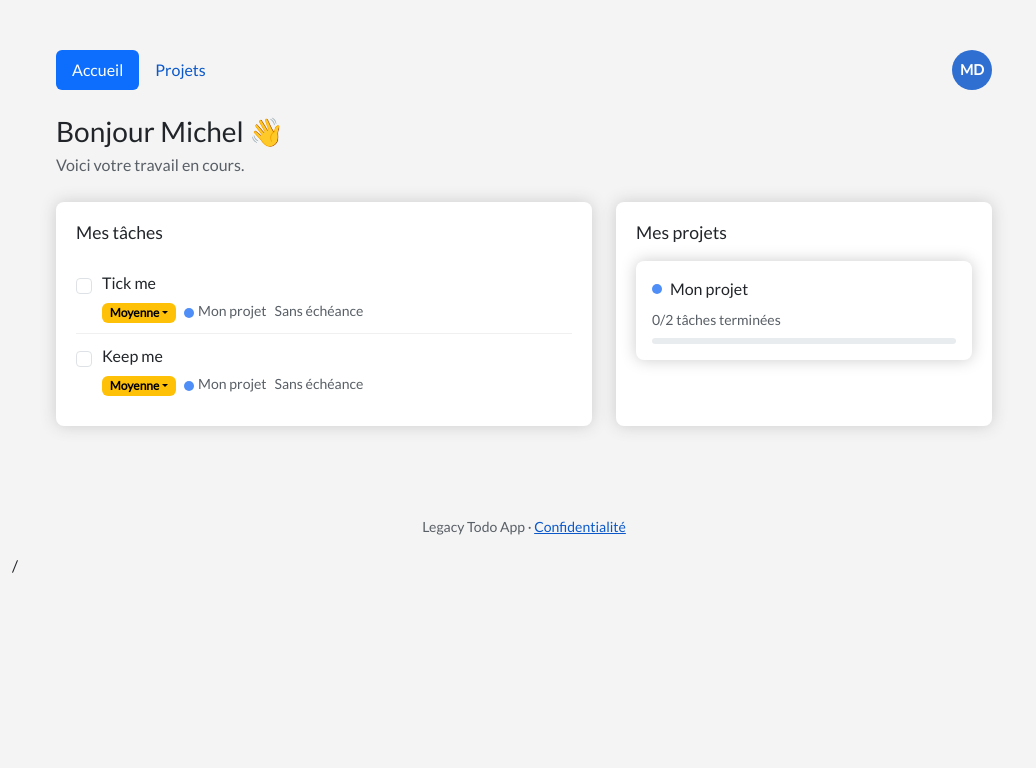
it: home page › ticking a task on the home page completes it and drops it from the list
Click the checkbox named "Marquer comme terminée" at (84, 286), box x1=76 y1=278 x2=92 y2=294
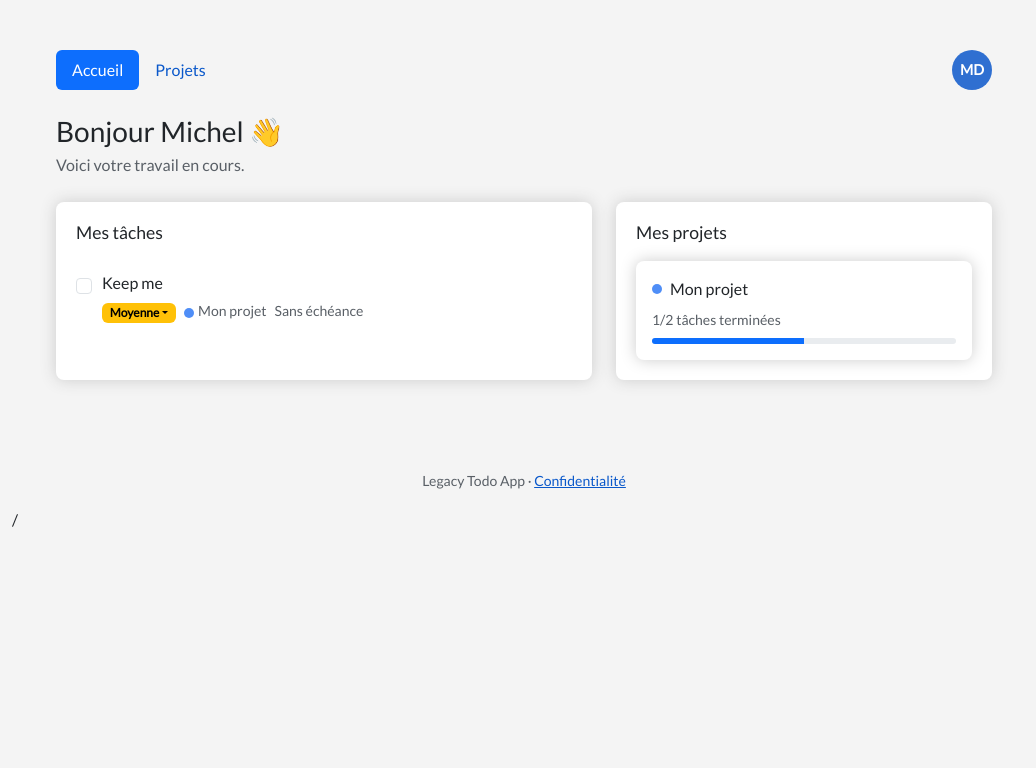
Expected: the text "Keep me" is shown, x1=102 y1=273 x2=163 y2=292
Now the text "Tick me" is gone
